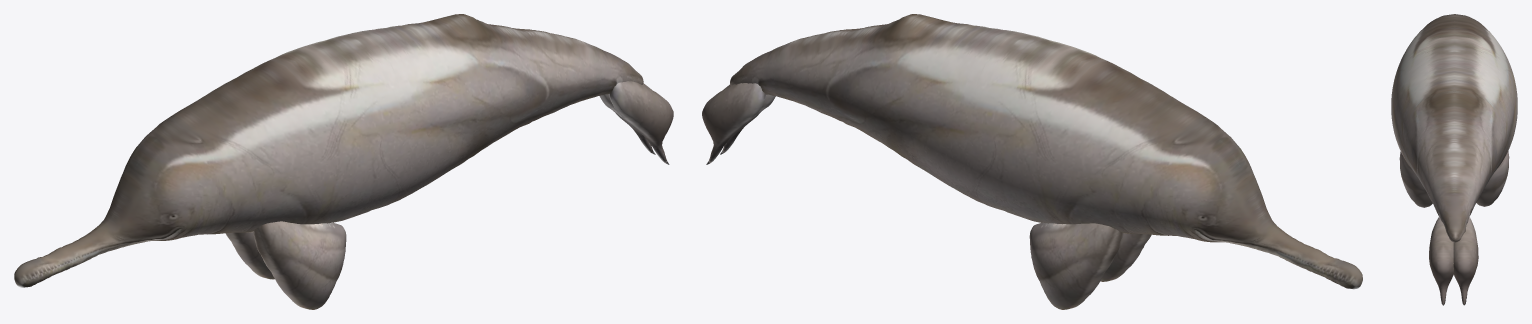
File: ganges-river-dolphin.glb
3 views of the same model, side by side, from view 1: azimuth 30°, elevation 25°; view 2: azimuth 150°, elevation 25°; view 3: azimuth 270°, elevation 25° (orthographic). The views are drawn at different scales.
Visible parts, largest first — view 1: mm_frame (21); view 2: mm_frame (21); view 3: mm_frame (21).
Part boxes in pixels (bbox=[...]): mm_frame (21): bbox=[14, 14, 673, 309]; mm_frame (21): bbox=[702, 14, 1362, 309]; mm_frame (21): bbox=[1391, 14, 1517, 305].
Bounding box in the file's own units: 8.87 × 3.09 × 1.97.
1 material, 1 textured.
